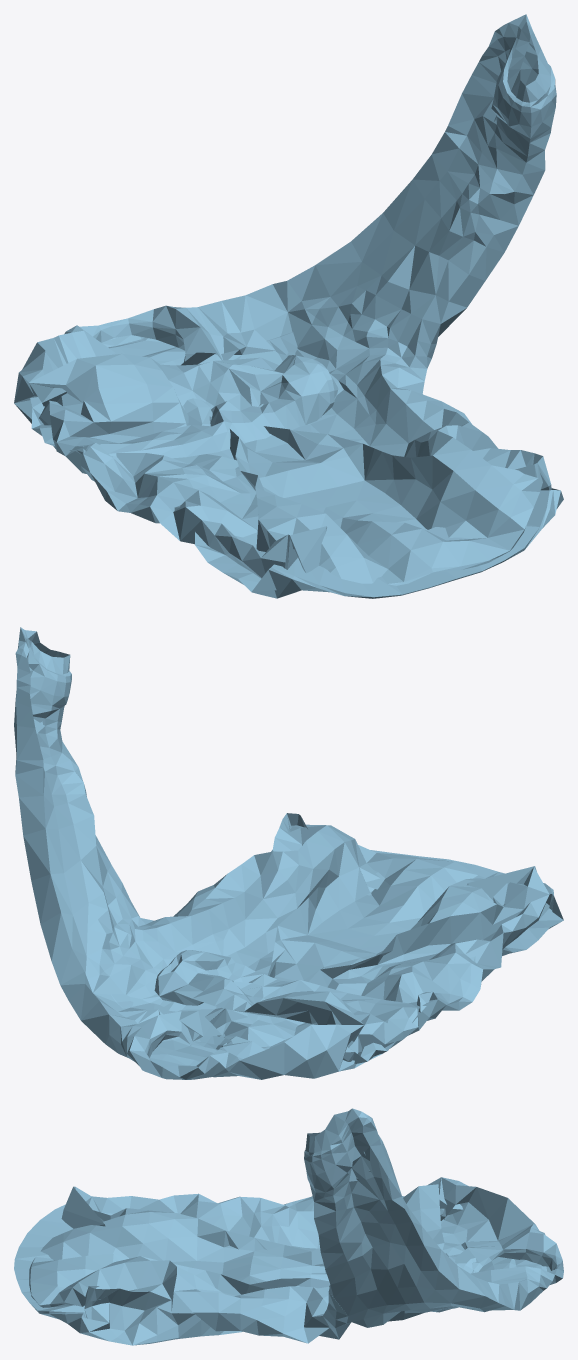
Rendered from frame_07.glb.
The picture shows the model from 3 angles, top to bottom: view 1: azimuth 30°, elevation 25°; view 2: azimuth 150°, elevation 25°; view 3: azimuth 270°, elevation 25°; orthographic projection. The views are drawn at different scales.
Parts seen in each view (by area): view 1: frame_07.obj; view 2: frame_07.obj; view 3: frame_07.obj.
Boxes of the visible parts, left/top/right/bottom form: frame_07.obj: left=14, top=14, right=563, bottom=598; frame_07.obj: left=14, top=627, right=563, bottom=1079; frame_07.obj: left=14, top=1108, right=563, bottom=1345.
Bounding box in the file's own units: 1.28 × 0.9698 × 1.6.
